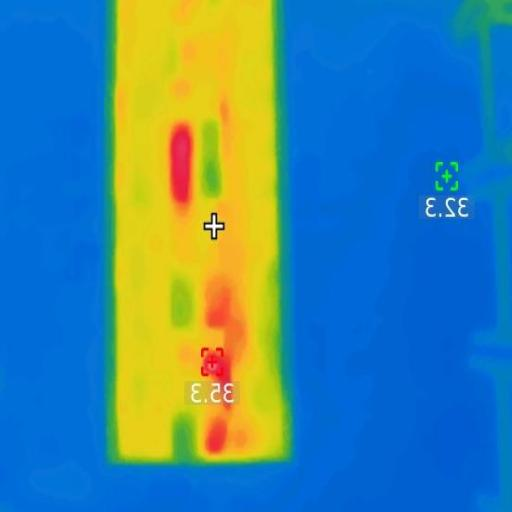hotspot: (168, 124, 193, 201), (202, 351, 234, 404), (203, 417, 225, 451)
